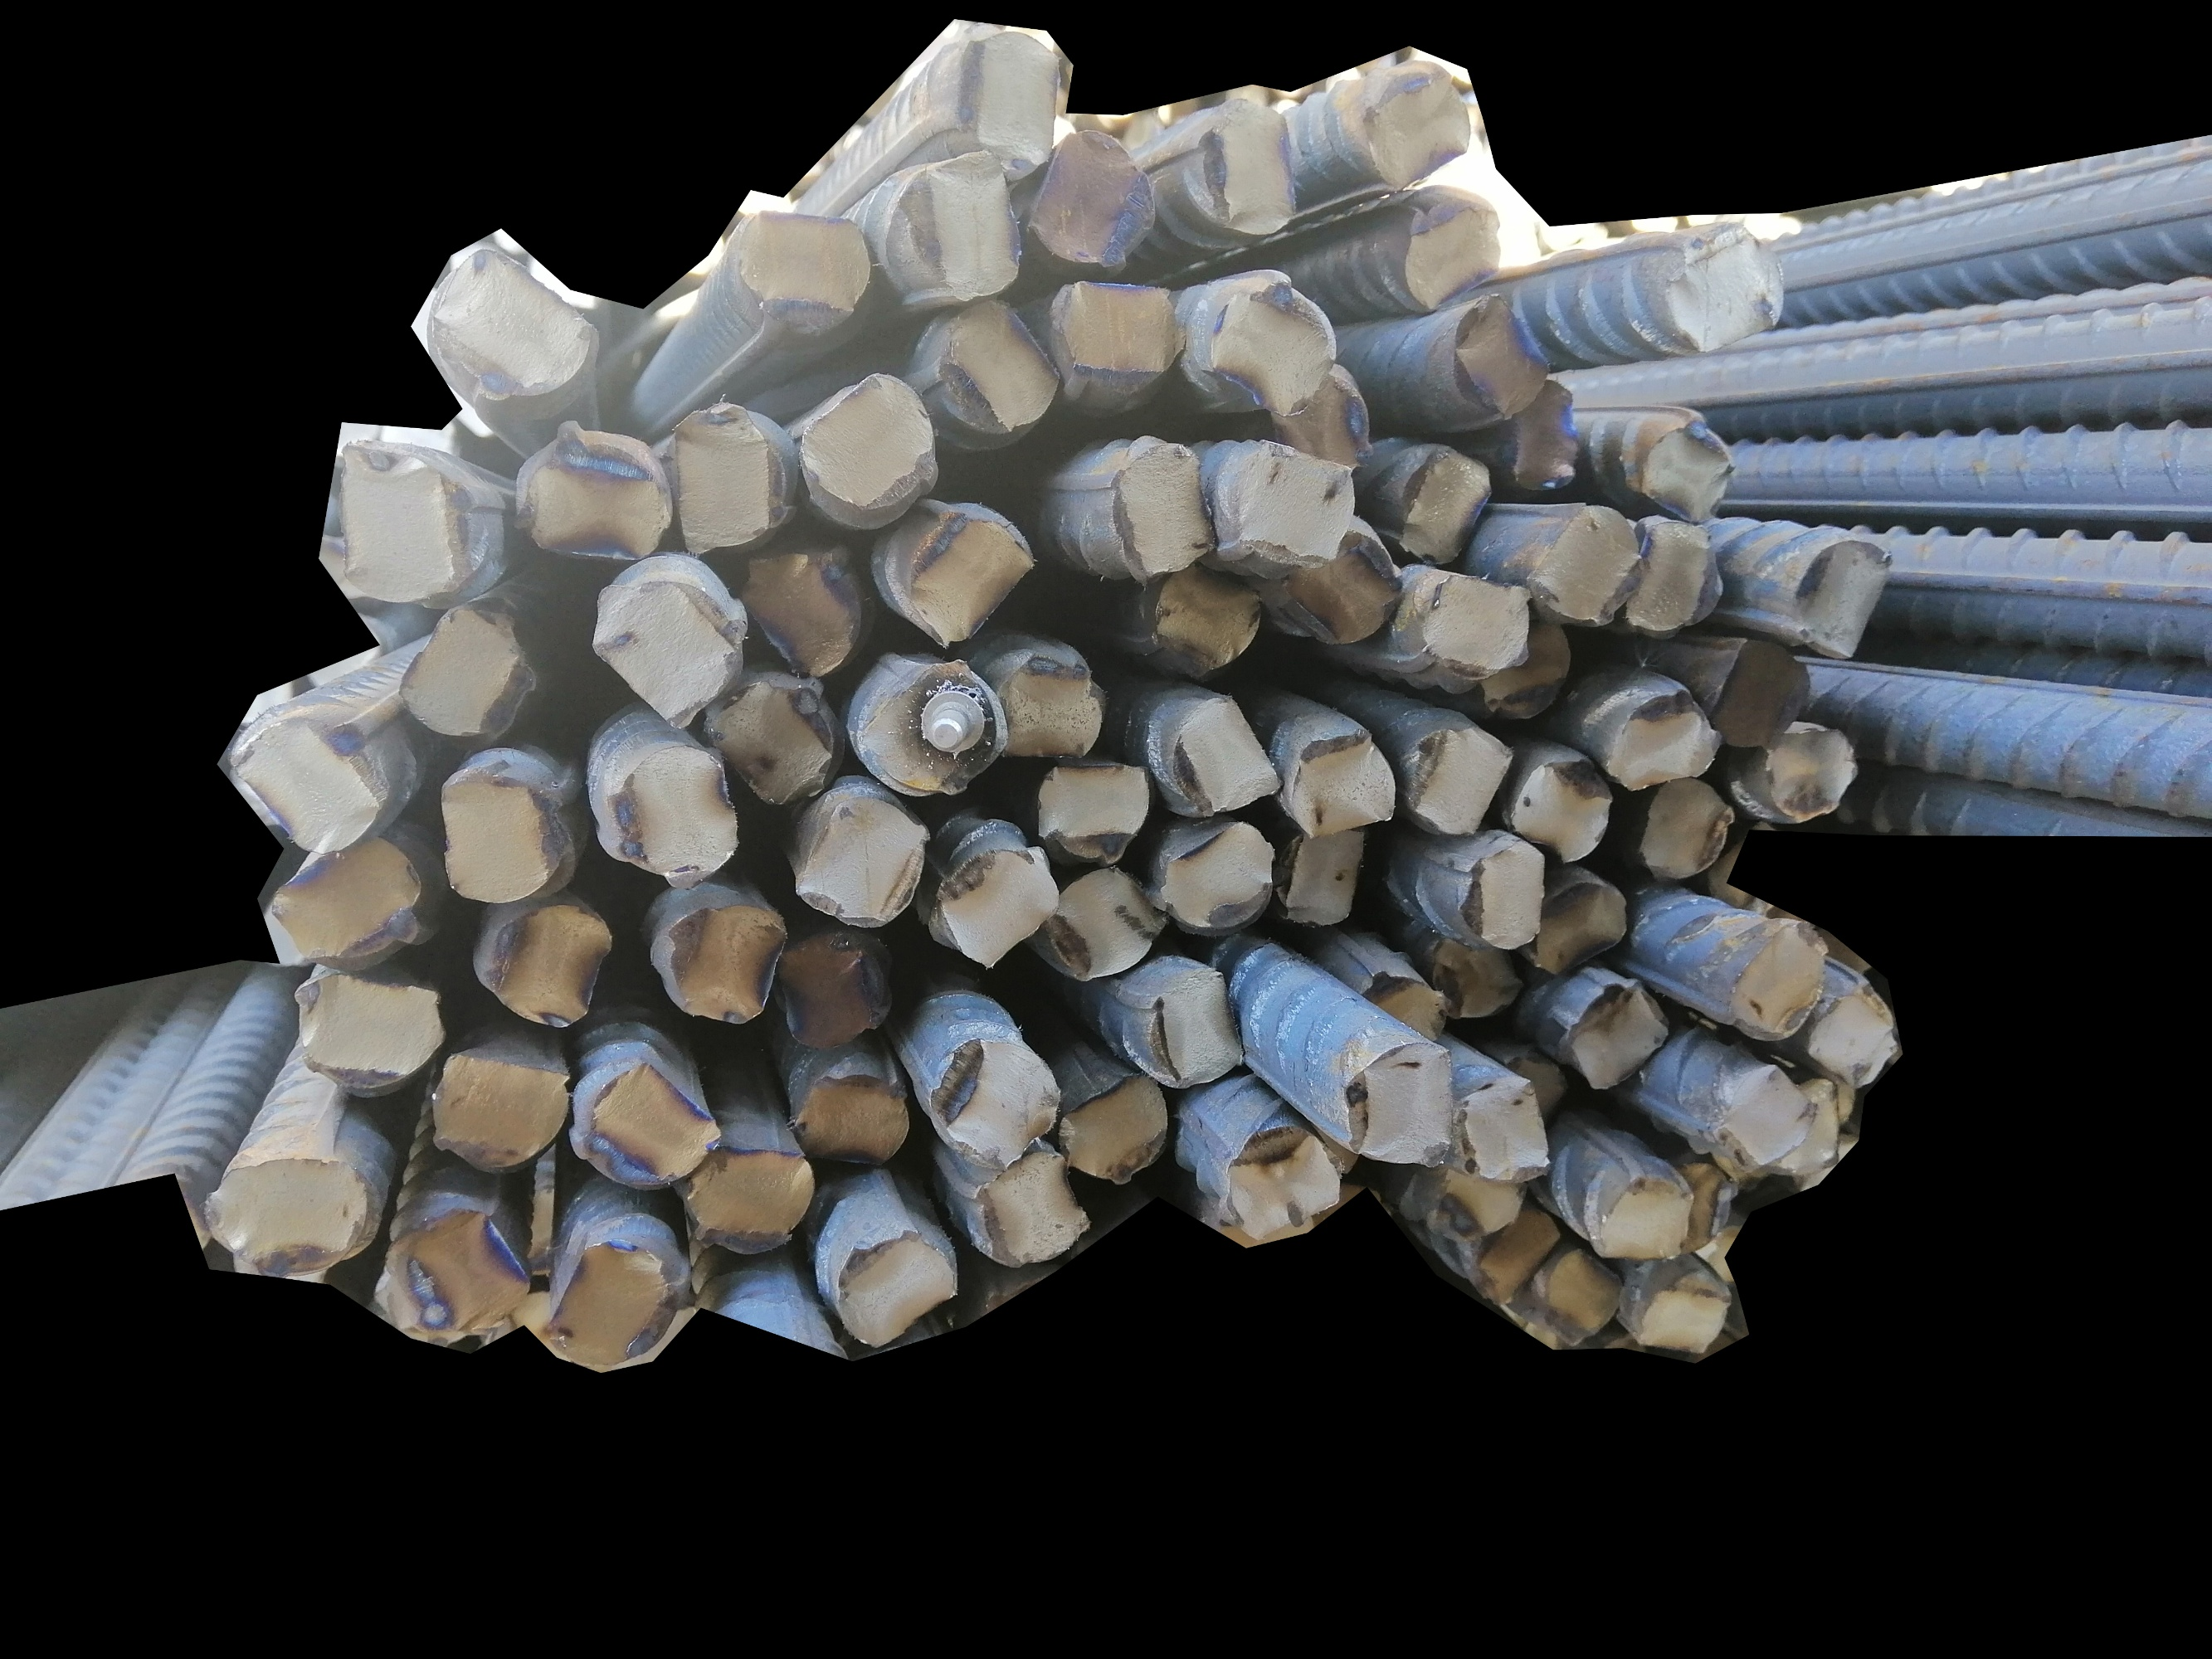rebar: (589, 549, 751, 730), (429, 251, 605, 410), (230, 702, 401, 854), (340, 432, 479, 615), (798, 364, 940, 535), (260, 833, 429, 974), (364, 1208, 540, 1338), (593, 730, 741, 885), (514, 420, 673, 565), (882, 152, 1027, 303), (657, 399, 788, 563), (858, 662, 1006, 803), (1208, 267, 1340, 423), (396, 599, 535, 746), (648, 887, 788, 1032), (573, 1056, 722, 1192), (734, 199, 879, 336), (295, 962, 446, 1093), (439, 765, 577, 906), (899, 505, 1032, 652), (540, 1237, 683, 1371), (791, 786, 922, 932), (478, 897, 615, 1035), (1231, 432, 1365, 570), (924, 1030, 1056, 1169), (206, 1157, 375, 1265), (1030, 125, 1152, 270), (429, 1049, 567, 1176), (1659, 225, 1792, 356), (934, 840, 1063, 972), (1218, 1101, 1340, 1241), (683, 1138, 821, 1260), (743, 542, 861, 683), (947, 293, 1058, 443), (1109, 425, 1215, 580), (1342, 1035, 1457, 1178), (831, 1223, 964, 1347), (1185, 98, 1299, 239), (711, 678, 833, 809), (952, 28, 1062, 169), (1163, 692, 1281, 819), (1056, 1065, 1173, 1194), (777, 922, 892, 1053), (967, 1145, 1093, 1263), (1149, 552, 1272, 669), (1530, 498, 1639, 631), (1055, 279, 1189, 385), (1363, 56, 1468, 190), (1726, 917, 1832, 1044), (1049, 864, 1164, 981), (1161, 824, 1279, 936), (1034, 751, 1145, 866), (1417, 570, 1534, 678), (1407, 721, 1511, 842), (1625, 514, 1727, 636), (994, 655, 1109, 763), (1461, 1065, 1558, 1192), (1708, 633, 1809, 755), (1565, 979, 1677, 1089), (1140, 967, 1245, 1084), (1452, 295, 1548, 422), (791, 1068, 915, 1166), (1288, 725, 1396, 836), (1302, 525, 1394, 653), (1792, 532, 1886, 657), (1400, 188, 1496, 310), (1511, 753, 1611, 870), (1400, 443, 1492, 568), (1607, 690, 1717, 791), (1637, 415, 1734, 528), (1279, 364, 1375, 477), (1637, 777, 1734, 885), (1762, 720, 1858, 826), (1529, 878, 1626, 981), (1590, 1173, 1694, 1265), (1719, 1060, 1804, 1169), (1469, 835, 1548, 953), (1426, 931, 1523, 1025), (1809, 983, 1898, 1086), (1482, 617, 1571, 720), (1471, 1206, 1565, 1302), (1286, 819, 1363, 934), (1358, 964, 1452, 1056), (1541, 1246, 1625, 1342), (1632, 1276, 1727, 1358), (1513, 376, 1581, 490), (1435, 1162, 1527, 1241), (1673, 1150, 1736, 1258), (1783, 1073, 1844, 1176), (1510, 1047, 1571, 1126)
